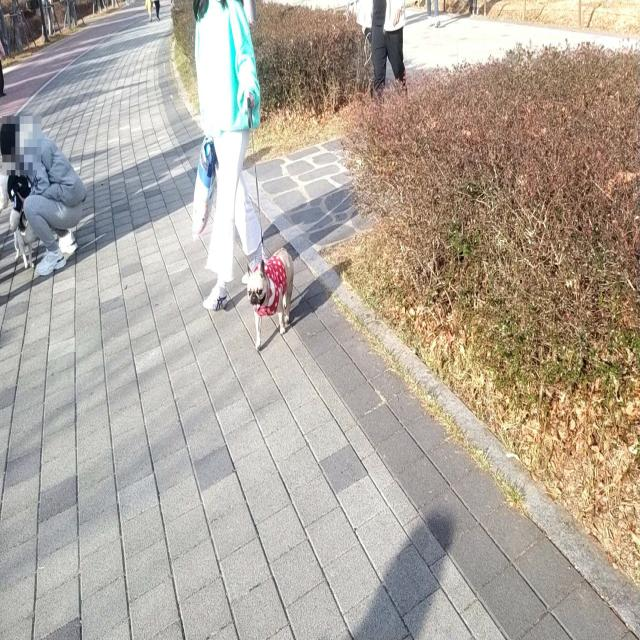Leashed_Dog: (202, 98, 294, 351)
